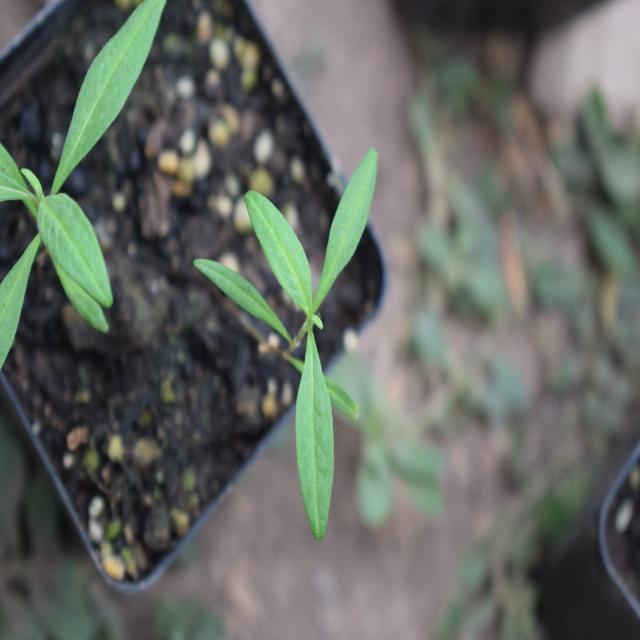white_smart_weed: (201, 137, 440, 518), (0, 5, 216, 359)
